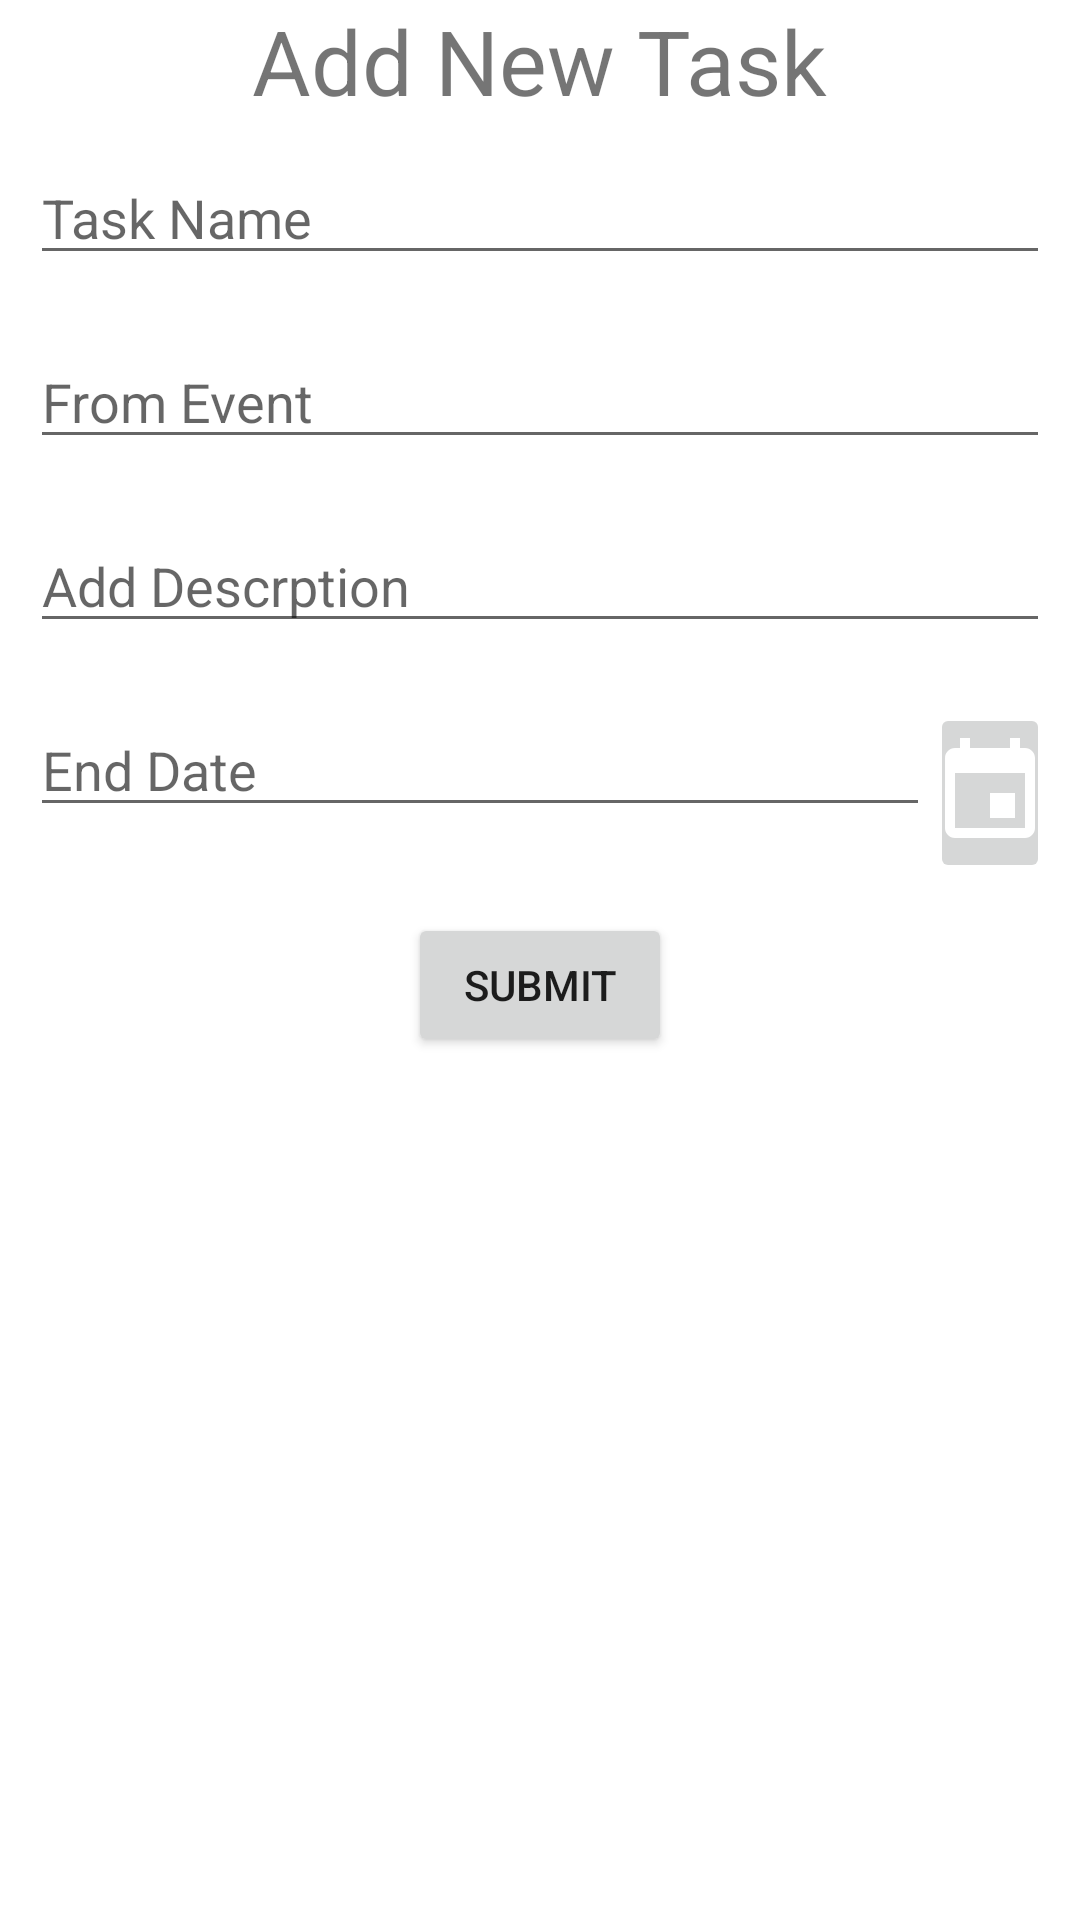

Screen size 1080px×1920px. Icon name, then its center in pixels as point (x, y):
event: point (990, 793)
